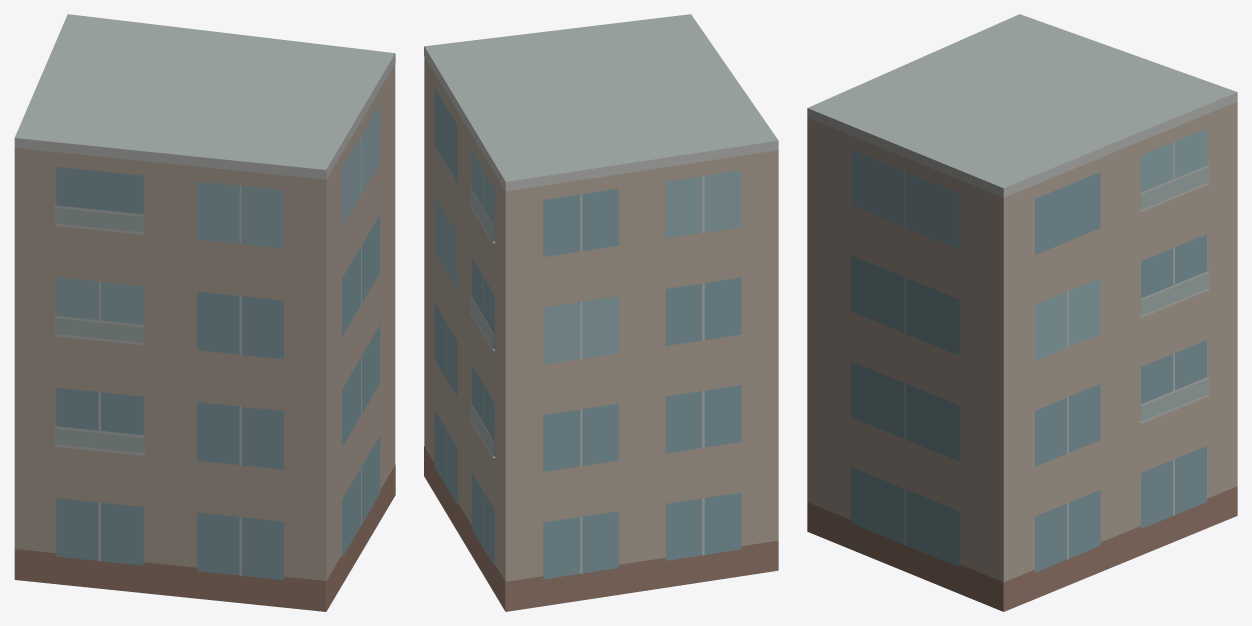
Rendered from survey-upis-32493725.glb.
The picture shows the model from 3 angles, left to right: view 1: azimuth 30°, elevation 25°; view 2: azimuth 150°, elevation 25°; view 3: azimuth 270°, elevation 25°; orthographic projection. The views are drawn at different scales.
Parts seen in each view (by area): view 1: survey-upis-32493725.tmp; view 2: survey-upis-32493725.tmp; view 3: survey-upis-32493725.tmp.
Boxes of the visible parts, left/top/right/bottom form: survey-upis-32493725.tmp: left=14, top=14, right=395, bottom=611; survey-upis-32493725.tmp: left=424, top=14, right=778, bottom=611; survey-upis-32493725.tmp: left=807, top=14, right=1237, bottom=611.
Bounding box in the file's own units: 9.72 × 11 × 10.14.
